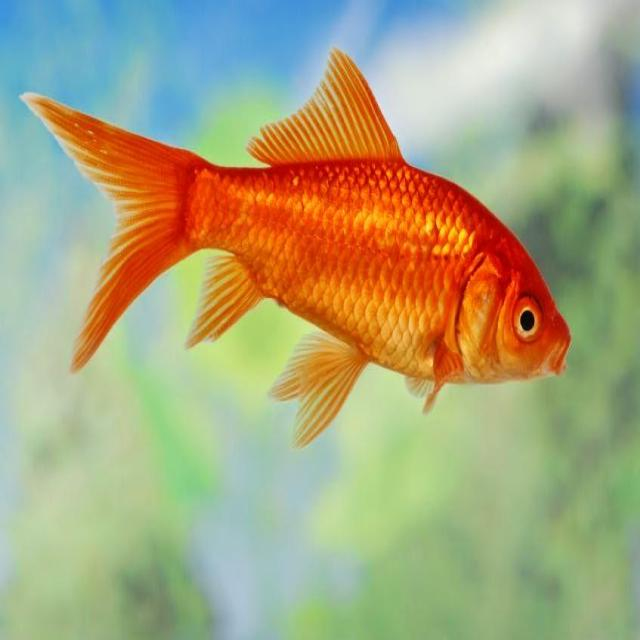GoldFish: (19, 53, 572, 440)
